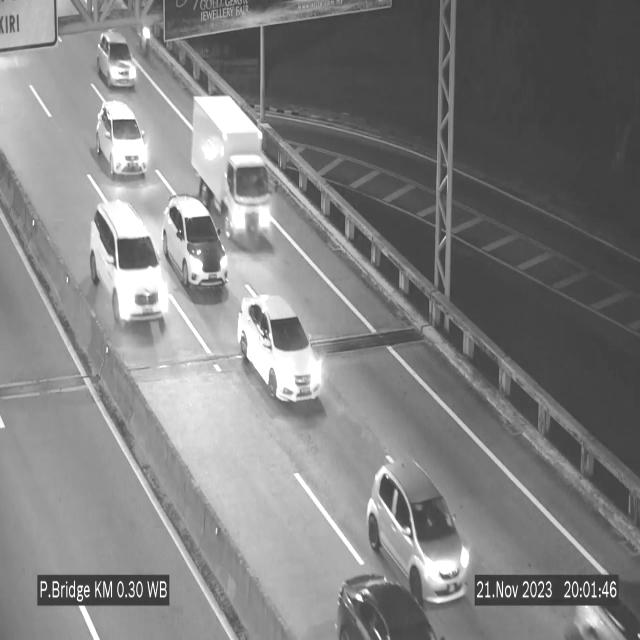Car: (365, 456, 473, 610), (90, 200, 162, 330), (238, 296, 323, 403), (337, 565, 445, 640), (163, 197, 227, 296), (96, 101, 148, 175), (96, 30, 136, 88)
Motorcycle: (133, 11, 159, 64)
Truck: (188, 91, 276, 249)
